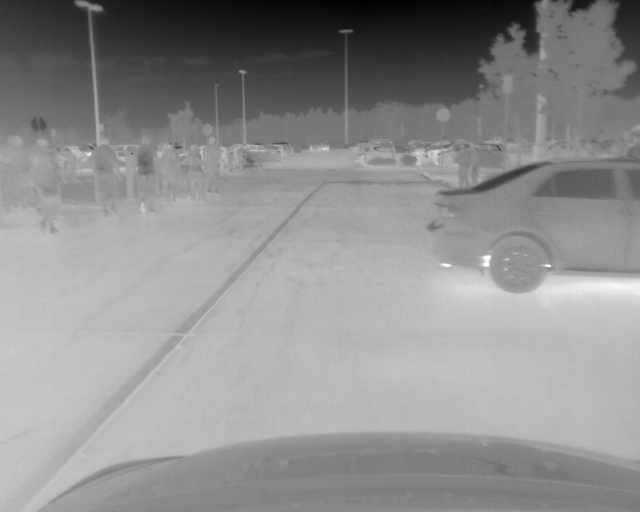car: (430, 162, 640, 294), (439, 143, 508, 168), (364, 144, 421, 164), (310, 141, 329, 152)
people: (30, 136, 62, 237), (93, 139, 121, 216), (134, 137, 159, 216), (160, 143, 181, 204), (187, 146, 207, 203), (205, 139, 222, 195), (456, 148, 469, 189), (470, 150, 479, 188), (227, 149, 236, 173), (238, 146, 247, 170)
